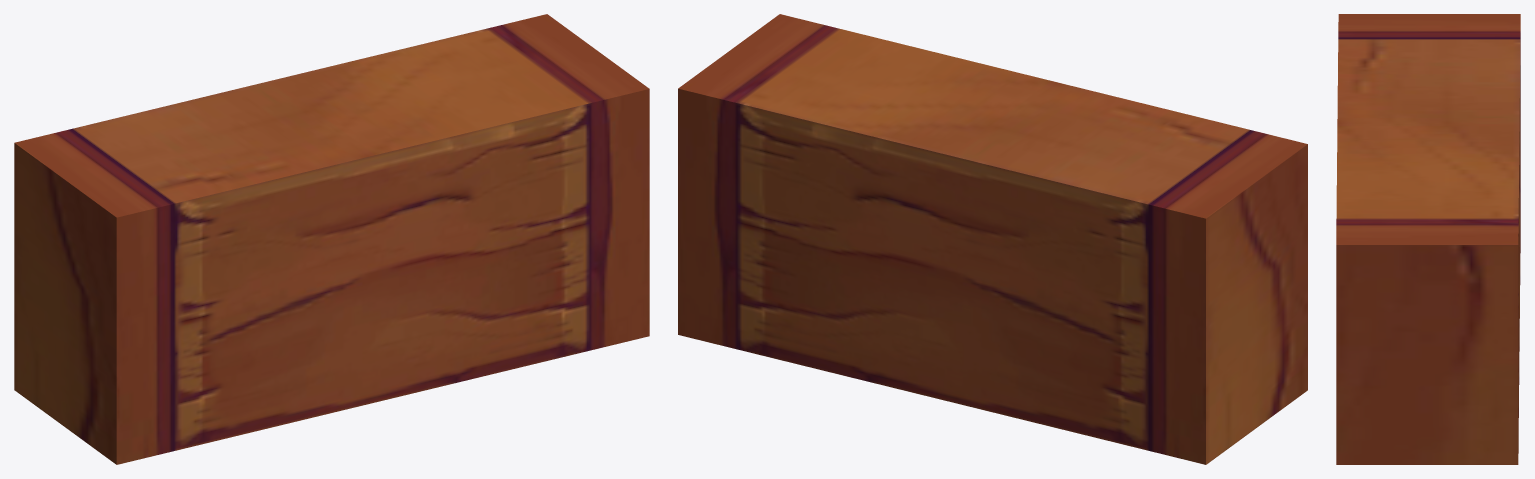
The model's file is fence_wood_01.fbx.
3 renders of one model, left to right at view 1: azimuth 30°, elevation 25°; view 2: azimuth 150°, elevation 25°; view 3: azimuth 270°, elevation 25°, orthographic. The views are drawn at different scales.
Parts seen in each view (by area): view 1: fence_wood_01; view 2: fence_wood_01; view 3: fence_wood_01.
Part boxes in pixels (bbox=[...]): fence_wood_01: bbox=[14, 14, 649, 464]; fence_wood_01: bbox=[678, 14, 1307, 464]; fence_wood_01: bbox=[1336, 14, 1520, 464].
Bounding box in the file's own units: 90 × 40 × 30.38.
